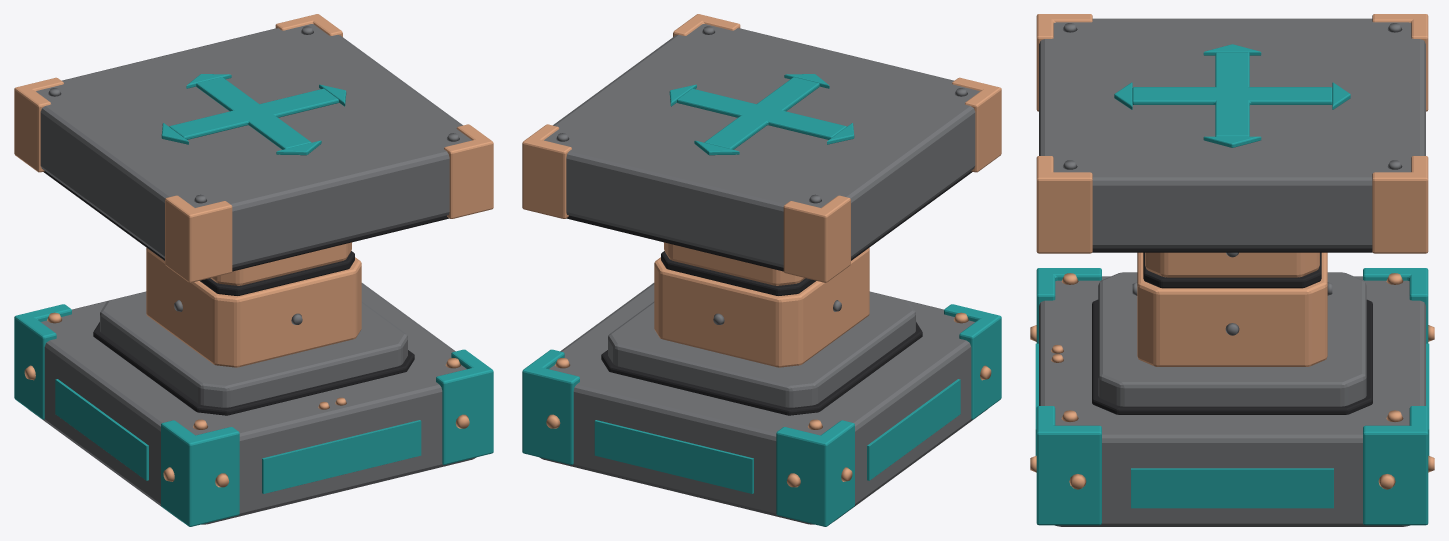
Rendered from piston_2.glb.
3 views of the same model, side by side, from view 1: azimuth 30°, elevation 25°; view 2: azimuth 150°, elevation 25°; view 3: azimuth 270°, elevation 25° (orthographic). The views are drawn at different scales.
Visible parts, largest first — view 1: Base, head; view 2: Base, head; view 3: Base, head.
Boxes of the visible parts, x1,y1,x2,y2 form: Base: [14, 248, 493, 526]; head: [14, 14, 493, 285]; Base: [522, 248, 1001, 526]; head: [522, 14, 1001, 285]; Base: [1030, 252, 1434, 526]; head: [1036, 14, 1428, 277].
Bounding box in the file's own units: 0.259 × 0.2505 × 0.259.
